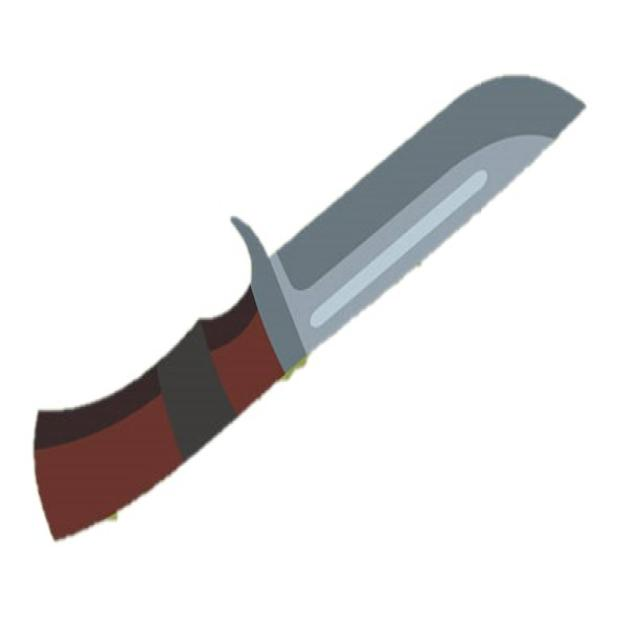knife: (20, 51, 596, 558)
